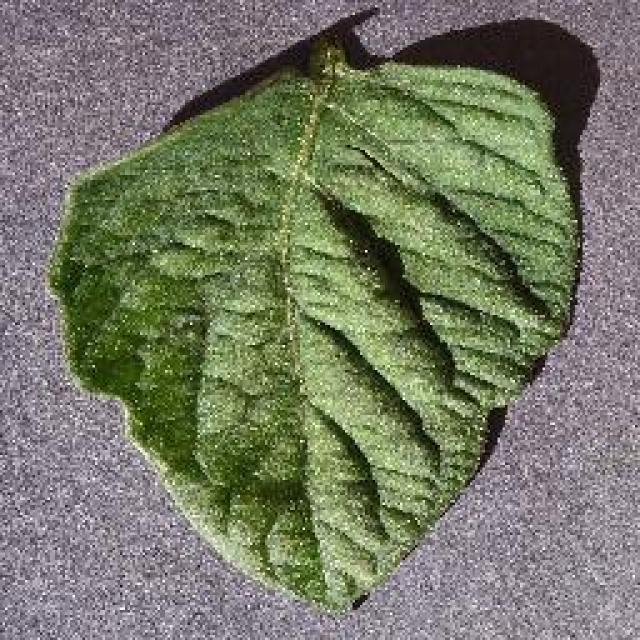Tomato___healthy: (47, 36, 582, 616)
